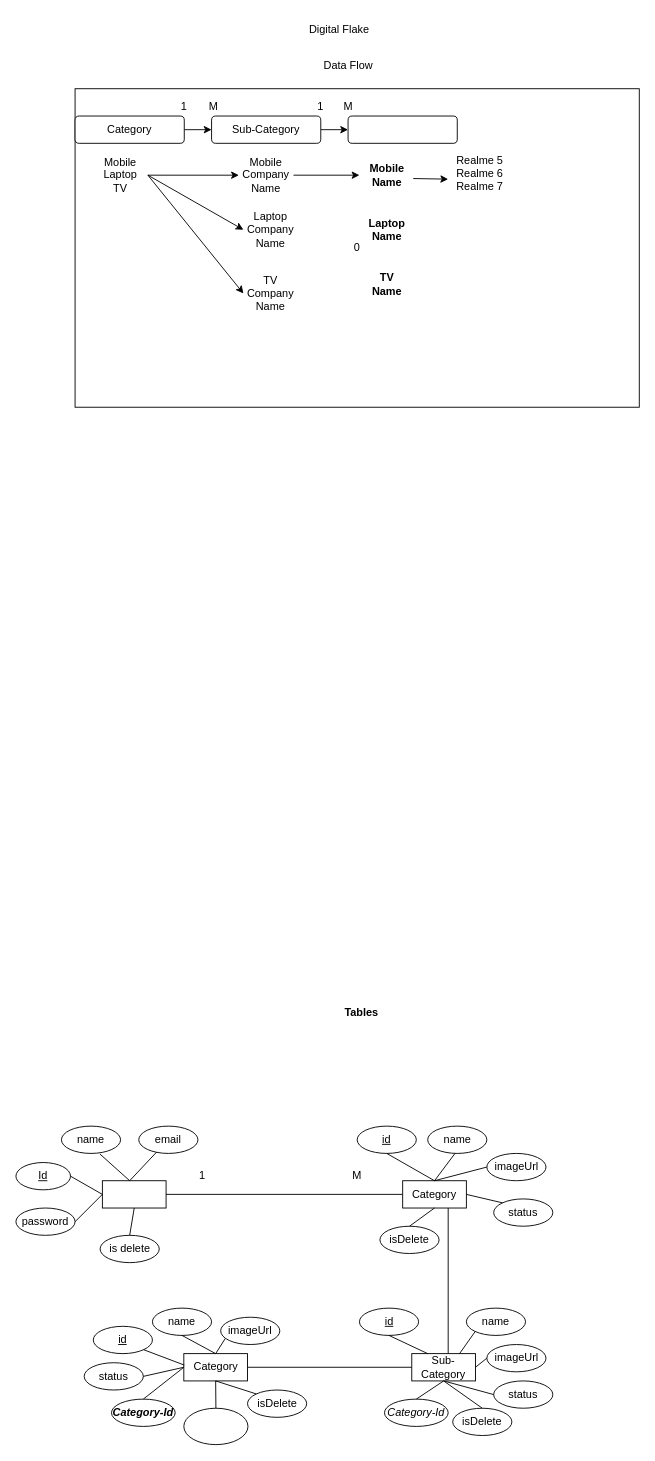
Image size: 655x1461. Some labels were removed from this diagram. Here are the shapes that lost their labels. From the top down, the centre of each, then its label:
At [402,129]: "Product".
At [133,1194]: "User".
At [215,1426]: "subCategory id".
